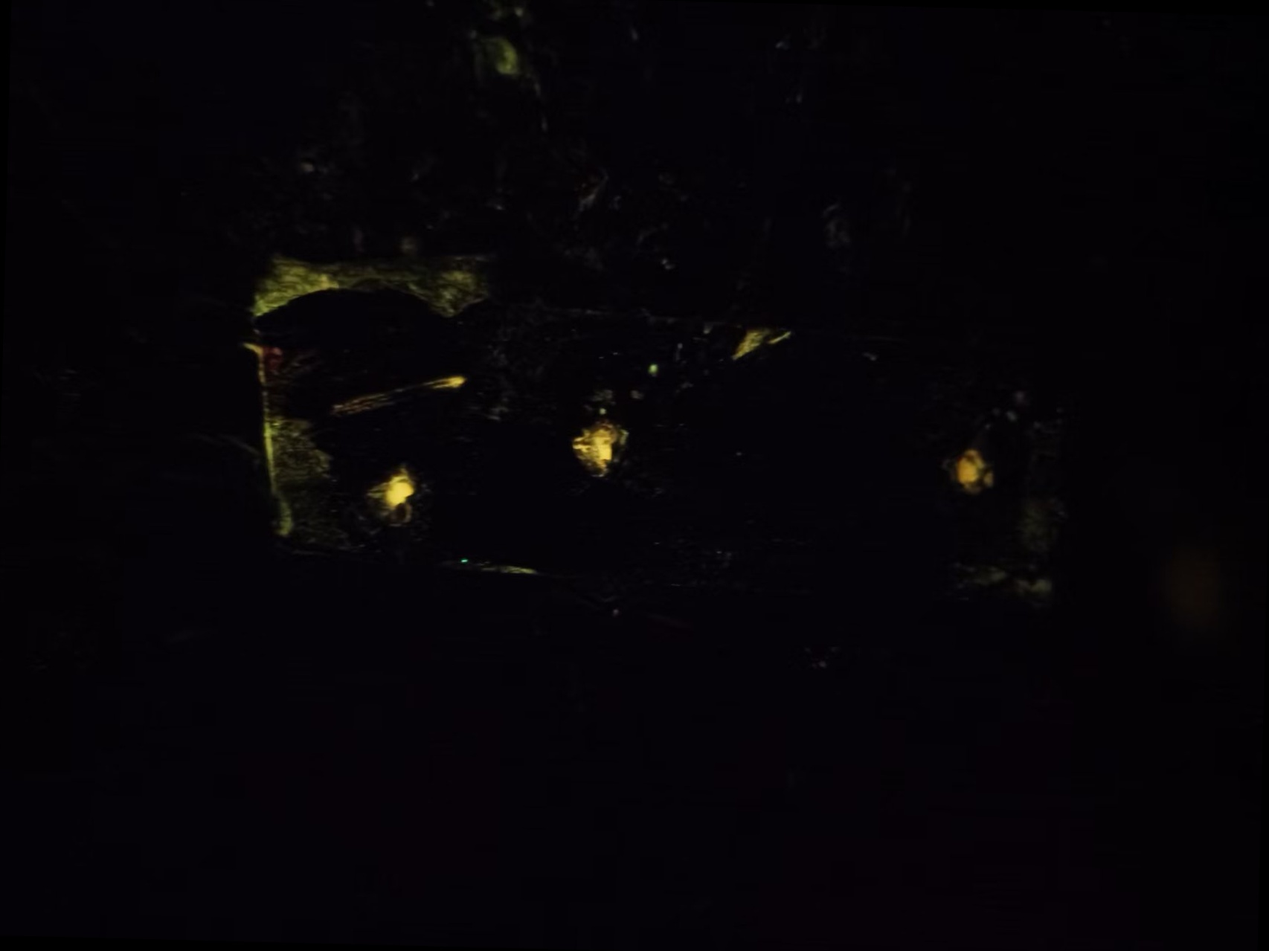Crater: (543, 397, 663, 483), (341, 443, 445, 526), (922, 427, 1010, 507)
